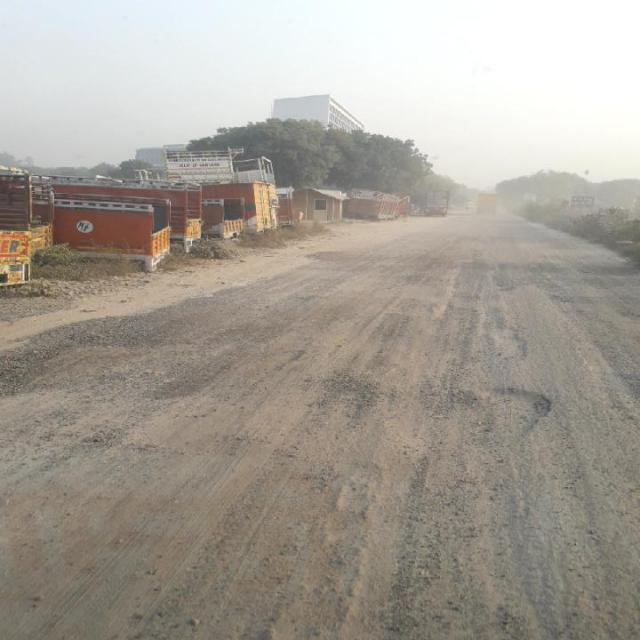Surface Erosion: (32, 197, 640, 640)
